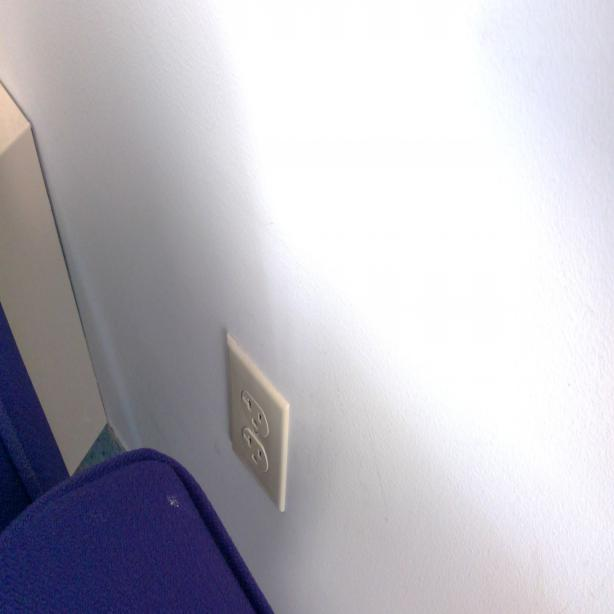typeb: (240, 389, 268, 434), (242, 434, 266, 476)
